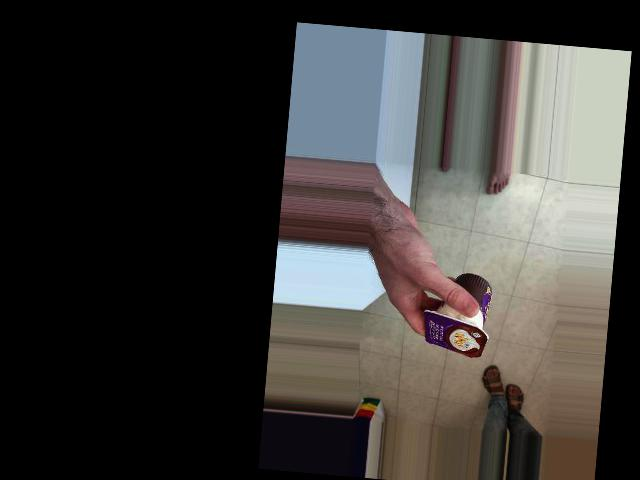milky: (430, 298, 522, 367)
